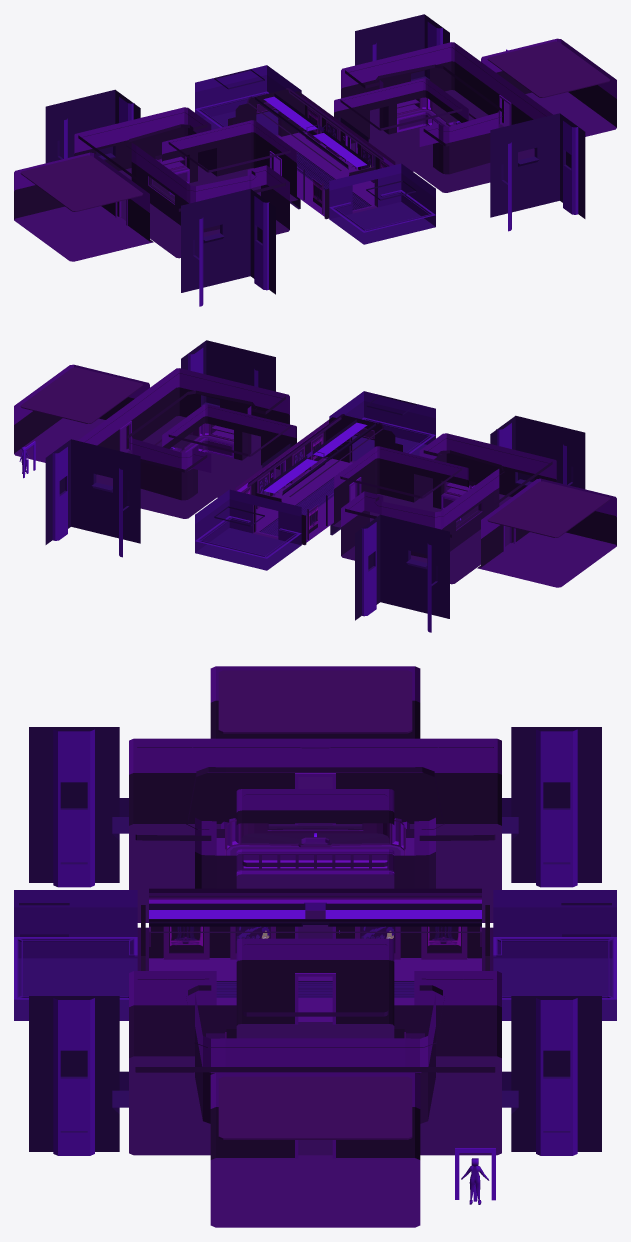
Rendered from HomeSweetHome.gltf.
3 renders of one model, top to bottom at view 1: azimuth 30°, elevation 25°; view 2: azimuth 150°, elevation 25°; view 3: azimuth 270°, elevation 25°, orthographic. The views are drawn at different scales.
Parts seen in each view (by area): view 1: home, posters; view 2: home, posters; view 3: home, posters, test_Dummys.001.
Part boxes in pixels (x1,y1,x2,y2): home: (14,14,616,306); posters: (308,109,386,207); home: (14,340,616,632); posters: (244,435,322,533); home: (14,666,616,1227); posters: (170,926,460,952); test_Dummys.001: (455,1148,495,1204).
Size of what is drawn, in the model's own units: 70.15 by 10.72 by 37.54.
Materials: 5 (4 with a texture image).
